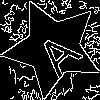A: (27, 22, 84, 79)
